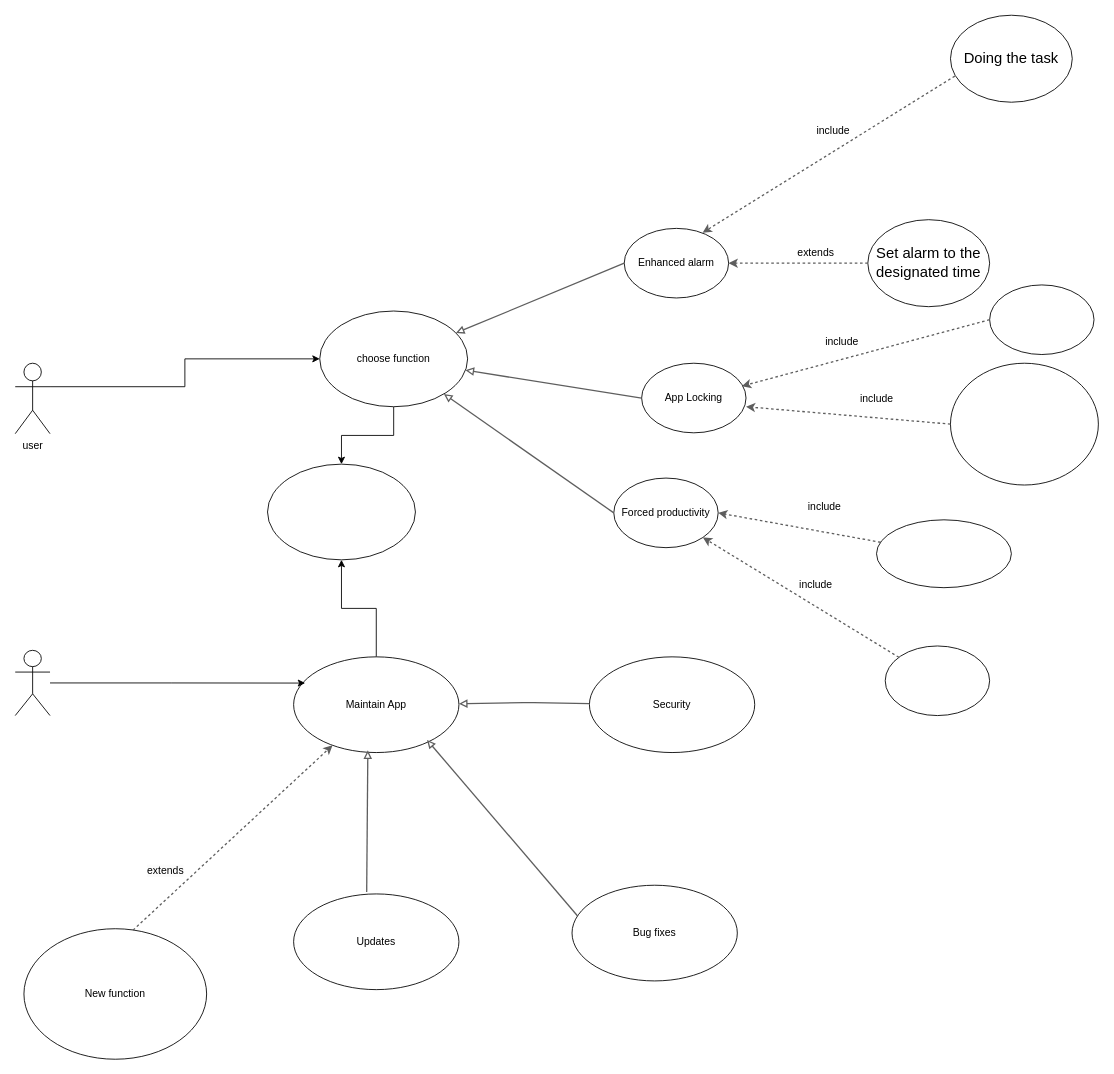
Some shapes in this 1114 by 1074 pixel diagram are drawn without their labels. Each missing label, with the centre of its shape:
APP: the point at 341,511
Choosing mode: the point at 937,680
DEV: the point at 32,682
Realization: the point at 943,553
Set limit: the point at 1041,319
The chosen app have been locked: the point at 1024,423
